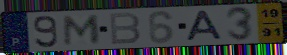3: (225, 5, 255, 44)
6: (146, 9, 178, 45)
9: (32, 15, 60, 49)
A: (185, 10, 225, 43)
B: (107, 11, 142, 46)
M: (63, 14, 102, 47)
